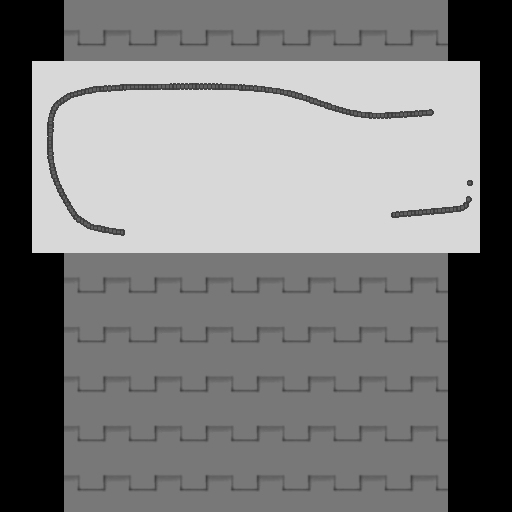Defect: (123, 209, 390, 236)
